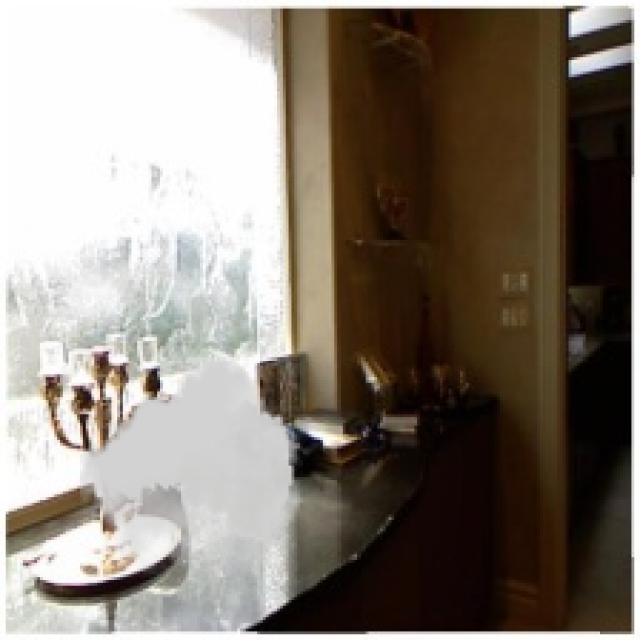Smoke: (80, 357, 303, 577)
